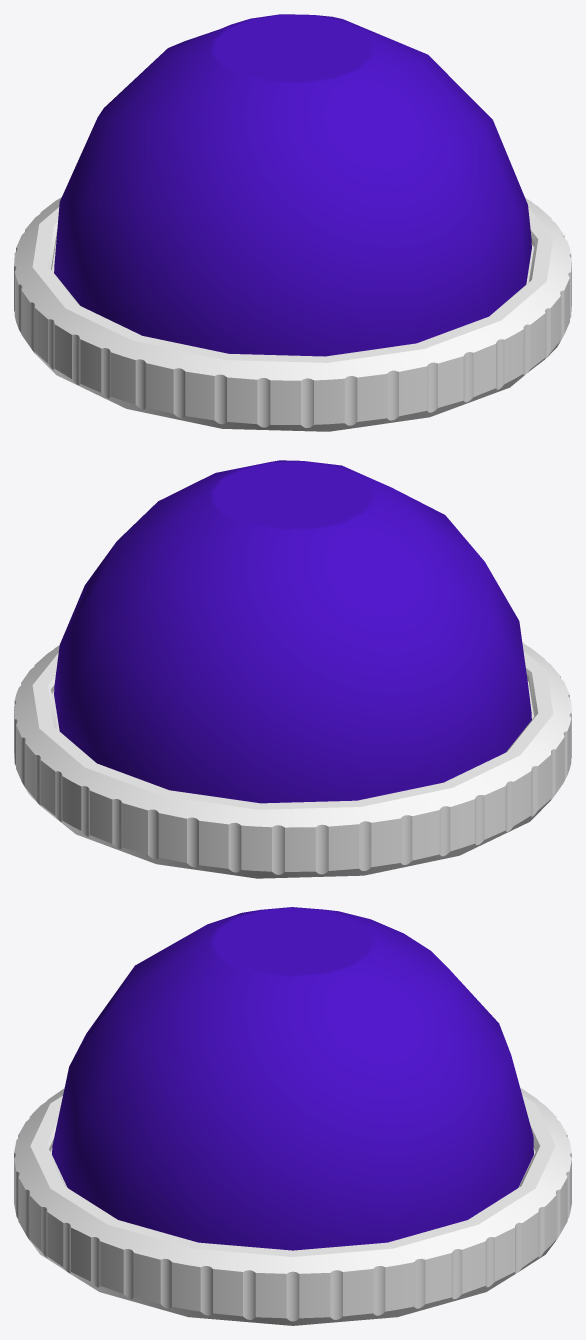
3 renders of one model, top to bottom at view 1: azimuth 30°, elevation 25°; view 2: azimuth 150°, elevation 25°; view 3: azimuth 270°, elevation 25°, orthographic.
Parts seen in each view (by area): view 1: mesh10699, mesh10693, mesh10701, mesh10694, mesh10612, mesh10698, mesh10700, mesh10686, mesh10682, mesh10684, mesh10680, mesh10688 (+19 smaller); view 2: mesh10699, mesh10693, mesh10701, mesh10694, mesh10612, mesh10698, mesh10700, mesh10655, mesh10659, mesh10657, mesh10653, mesh10661 (+19 smaller); view 3: mesh10699, mesh10693, mesh10701, mesh10694, mesh10612, mesh10698, mesh10700, mesh10629, mesh10631, mesh10627, mesh10633, mesh10625 (+20 smaller).
Part boxes in pixels (x1,y1,x2,y2): mesh10699: (54, 15, 531, 354); mesh10693: (14, 197, 571, 380); mesh10701: (215, 15, 370, 81); mesh10694: (32, 207, 553, 362); mesh10612: (22, 336, 560, 431); mesh10698: (54, 242, 531, 356); mesh10700: (209, 14, 376, 84); mesh10686: (314, 378, 344, 424); mesh10682: (227, 377, 257, 424); mesh10684: (270, 380, 300, 424); mesh10680: (185, 371, 214, 420); mesh10688: (357, 374, 386, 421); mesh10699: (54, 460, 531, 801); mesh10693: (14, 642, 571, 827); mesh10701: (215, 462, 370, 528); mesh10694: (32, 651, 553, 809); mesh10612: (25, 784, 562, 878); mesh10698: (54, 689, 531, 803); mesh10700: (209, 461, 376, 531); mesh10655: (241, 825, 271, 871); mesh10659: (328, 824, 358, 870); mesh10657: (285, 827, 315, 871); mesh10653: (199, 820, 228, 868); mesh10661: (371, 818, 400, 867); mesh10699: (52, 909, 533, 1248); mesh10693: (14, 1088, 571, 1273); mesh10701: (214, 908, 371, 974); mesh10694: (30, 1095, 555, 1256); mesh10612: (30, 1240, 555, 1325); mesh10698: (52, 1148, 533, 1250); mesh10700: (209, 907, 377, 978); mesh10629: (255, 1273, 286, 1318); mesh10631: (299, 1273, 330, 1318); mesh10627: (213, 1269, 242, 1316); mesh10633: (343, 1269, 372, 1316); mesh10625: (172, 1262, 200, 1311).
Size of the model in its own units: 0.051 by 0.0272 by 0.051.
